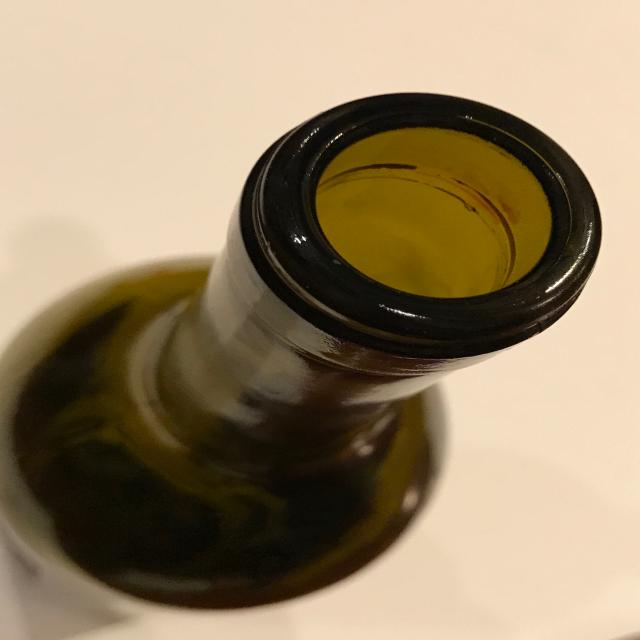Glass: (0, 83, 603, 640)
